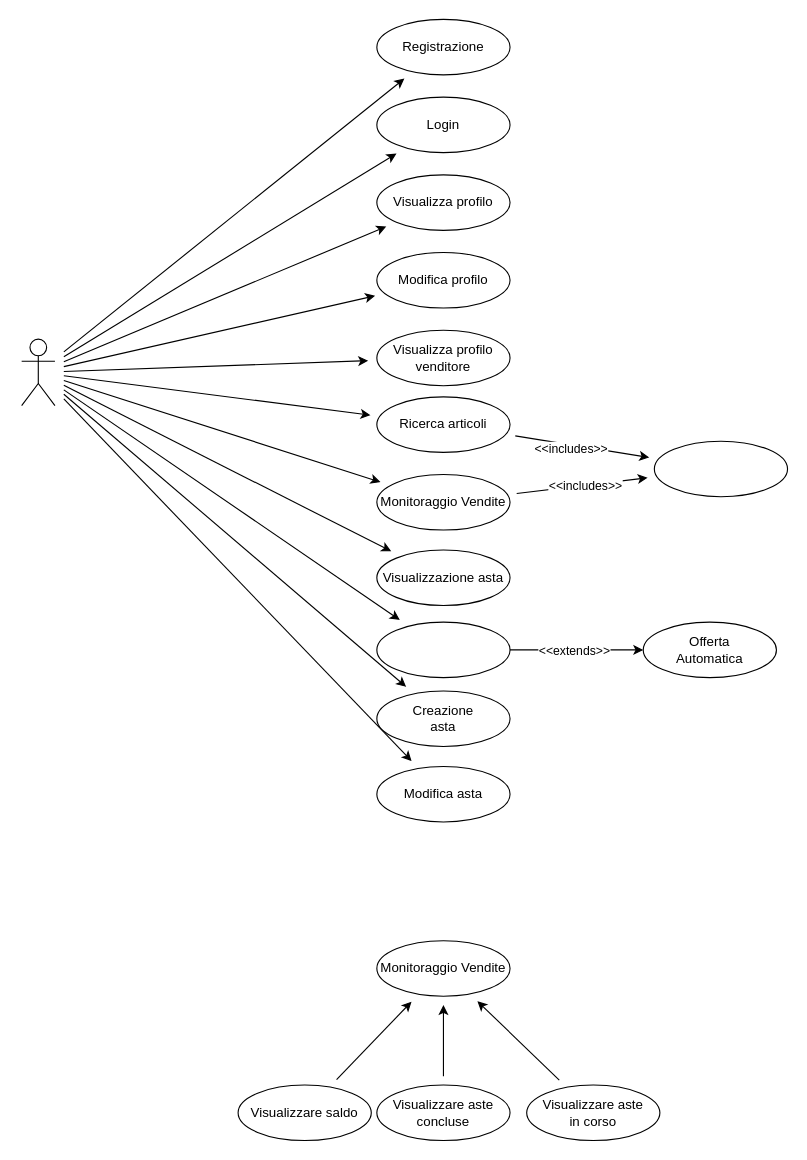
The diagram is 807 pixels wide and 1160 high, and some of its shapes have lost their labels. The centre of each missing label's shape, as x and y in pixels:
"Effettuare un offerta" belongs at (443,649).
"Filtro risultati" belongs at (720,468).
"Utente" belongs at (38,372).
